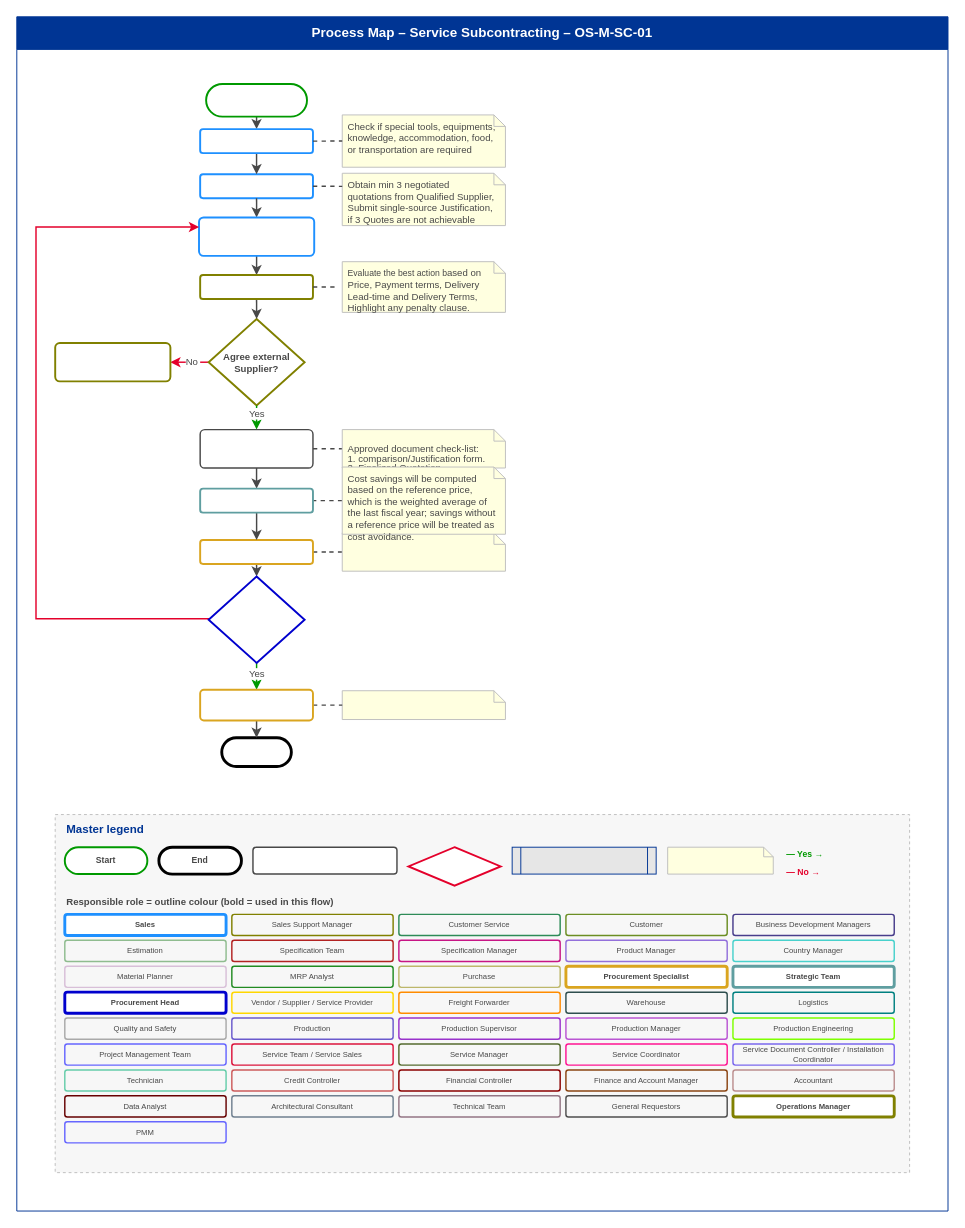
Some shapes in this 965 by 1228 pixel diagram are drawn without their labels. Here are the shapes that lost their labels. From the top down, the centre of each, then its label:
At point 256,100: "Subcontracting".
At point 256,141: "Scope Review".
At point 256,186: "Get Quotations".
At point 256,236: "Submit comparison/ Justification with Line Manager Approval".
At point 256,287: "Validate request".
At point 112,362: "Book time slot for Internal service team, Notify the requestor.".
At point 256,448: "PR Verification, assignment & Update Tactical team".
At point 256,500: "Estimate savings".
At point 256,551: "Issue PO".
At point 423,551: "Attachment Approved: 1. Comparison/ Justification form. 2. Finalized Quotation".
At point 256,619: "PO Approval".
At point 256,704: "Sign agreement with Subcontractor".
At point 423,705: "Make use of dormakaba standard Subcontractor agreement template.".
At point 256,752: "EXIT".
At point 324,860: "Activity (outline = role)".
At point 454,866: "Decision".
At point 583,860: "Linked process (Ref ID)".
At point 720,860: "Note / checklist".
